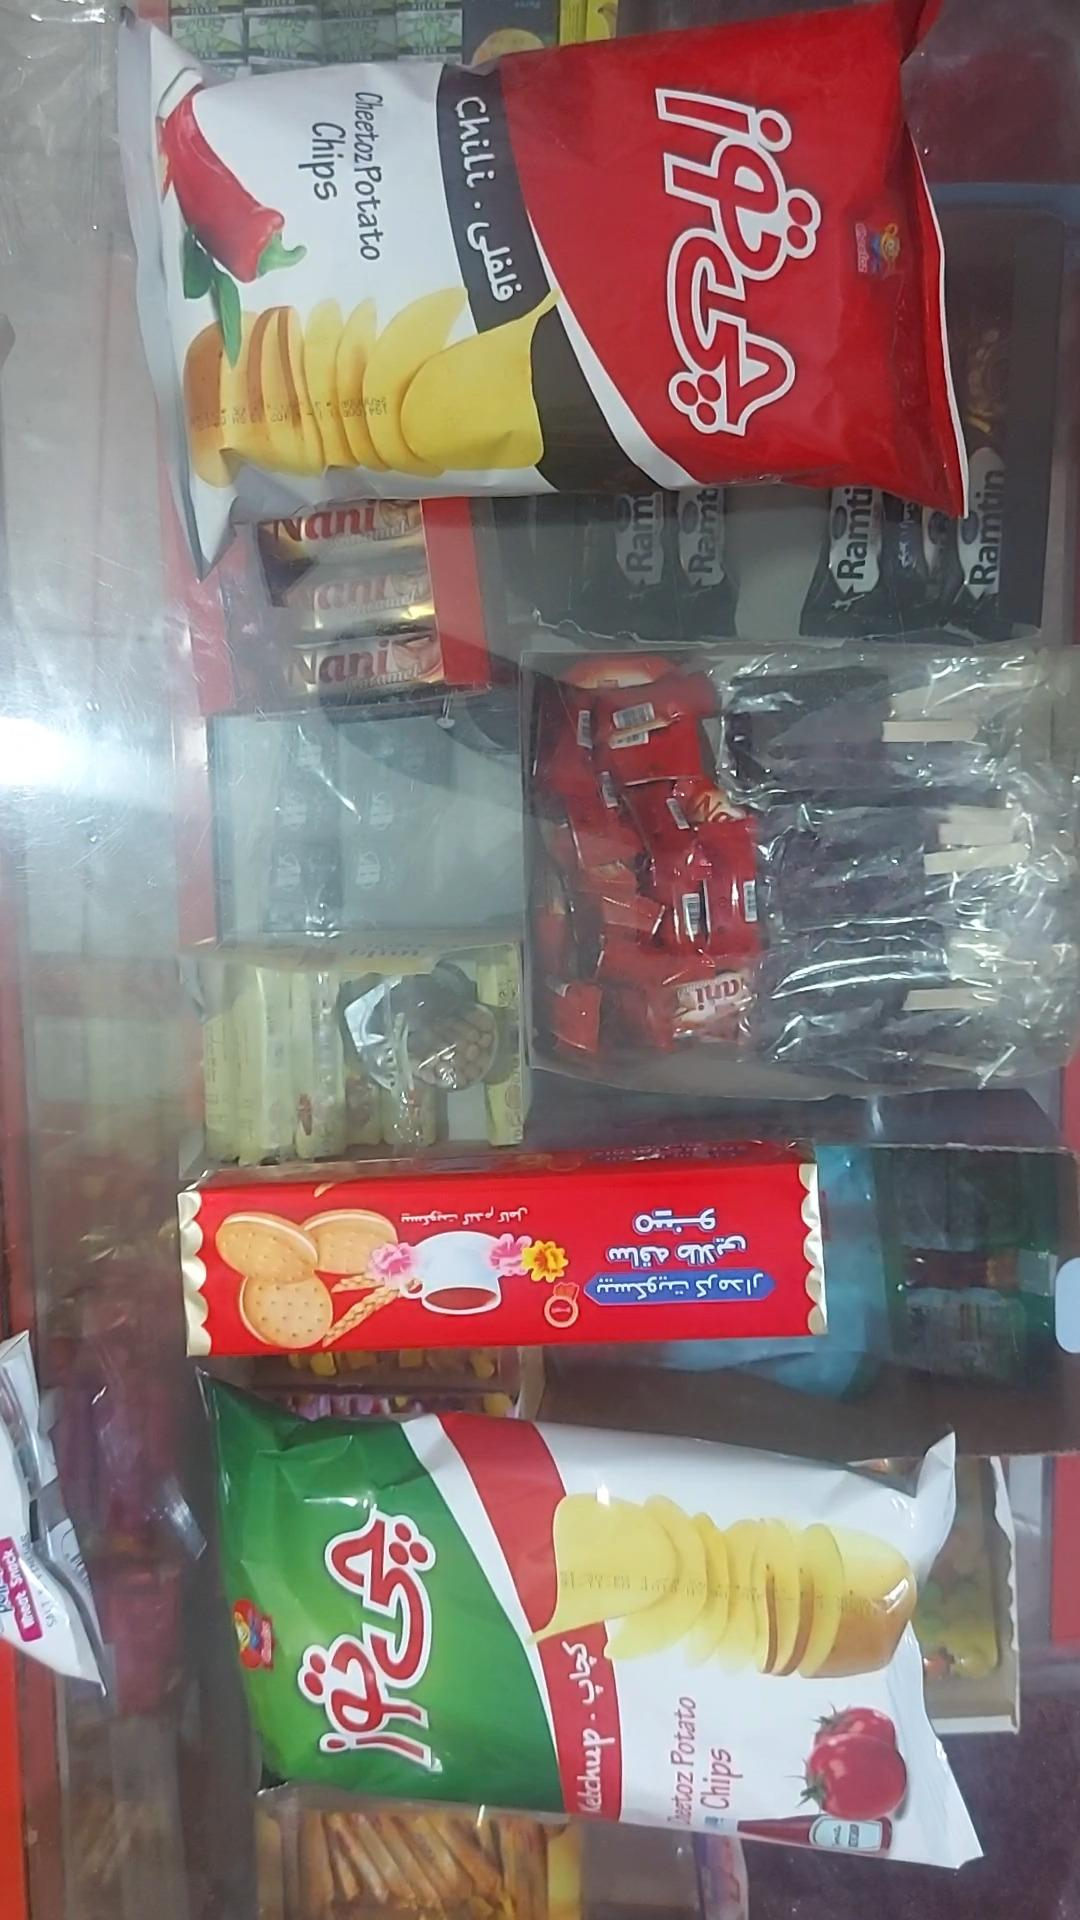Cheetoz chili chips: (108, 0, 967, 575)
Cheetoz ketchup chips: (199, 1375, 985, 1871)
Minoo cream biscuit: (178, 1141, 828, 1358)
